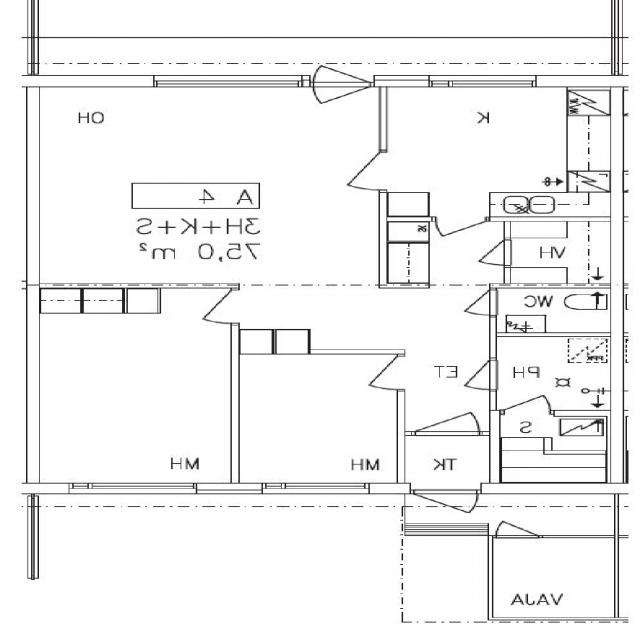door: (414, 483, 478, 530), (315, 152, 389, 190), (416, 394, 479, 436), (314, 75, 371, 120), (314, 42, 371, 86), (340, 356, 405, 389), (176, 290, 239, 323), (440, 360, 497, 390), (436, 217, 486, 250), (504, 382, 551, 417), (446, 290, 497, 315), (496, 510, 539, 538), (461, 240, 511, 264)
